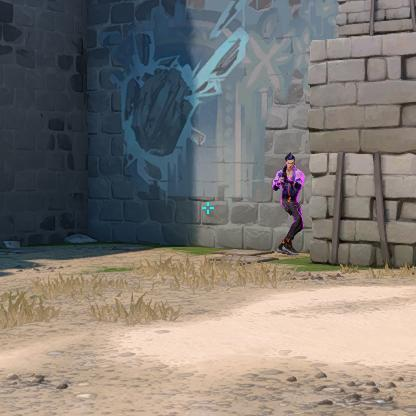enemyBody: (284, 170, 296, 198)
enemyHead: (287, 157, 295, 168)
